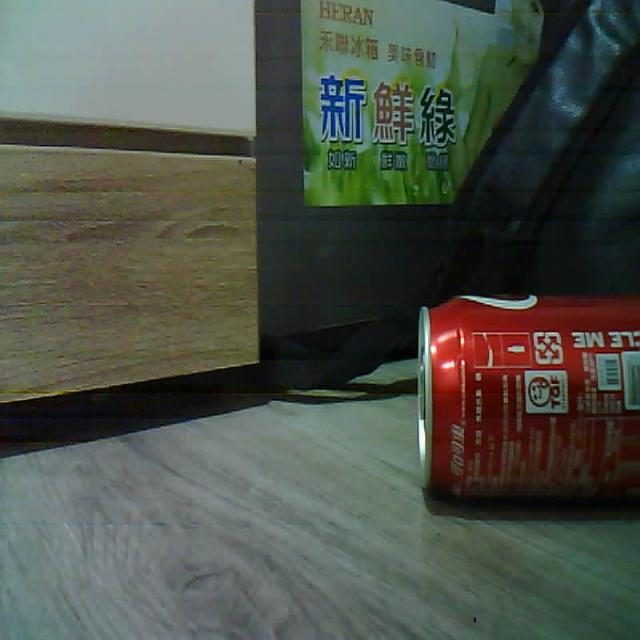can: (418, 297, 639, 497)
